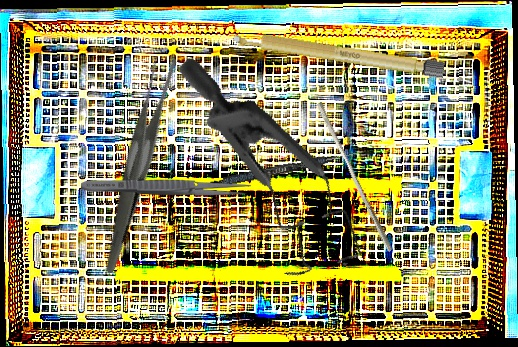Dressing Forceps: (44, 50, 228, 274), (80, 176, 252, 198)
Pusher: (311, 101, 399, 253)
Scalpel Handle: (231, 28, 446, 79)
Spatula Surgical: (180, 142, 375, 199)
Speculum: (122, 56, 407, 298)
